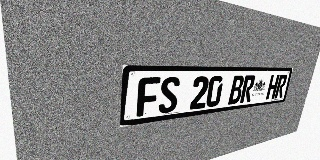0: (205, 76, 224, 108)
2: (190, 76, 210, 110)
B: (228, 75, 245, 105)
F: (136, 77, 161, 117)
H: (266, 75, 280, 100)
R: (240, 75, 256, 103), (274, 74, 288, 98)
S: (158, 77, 180, 114)
